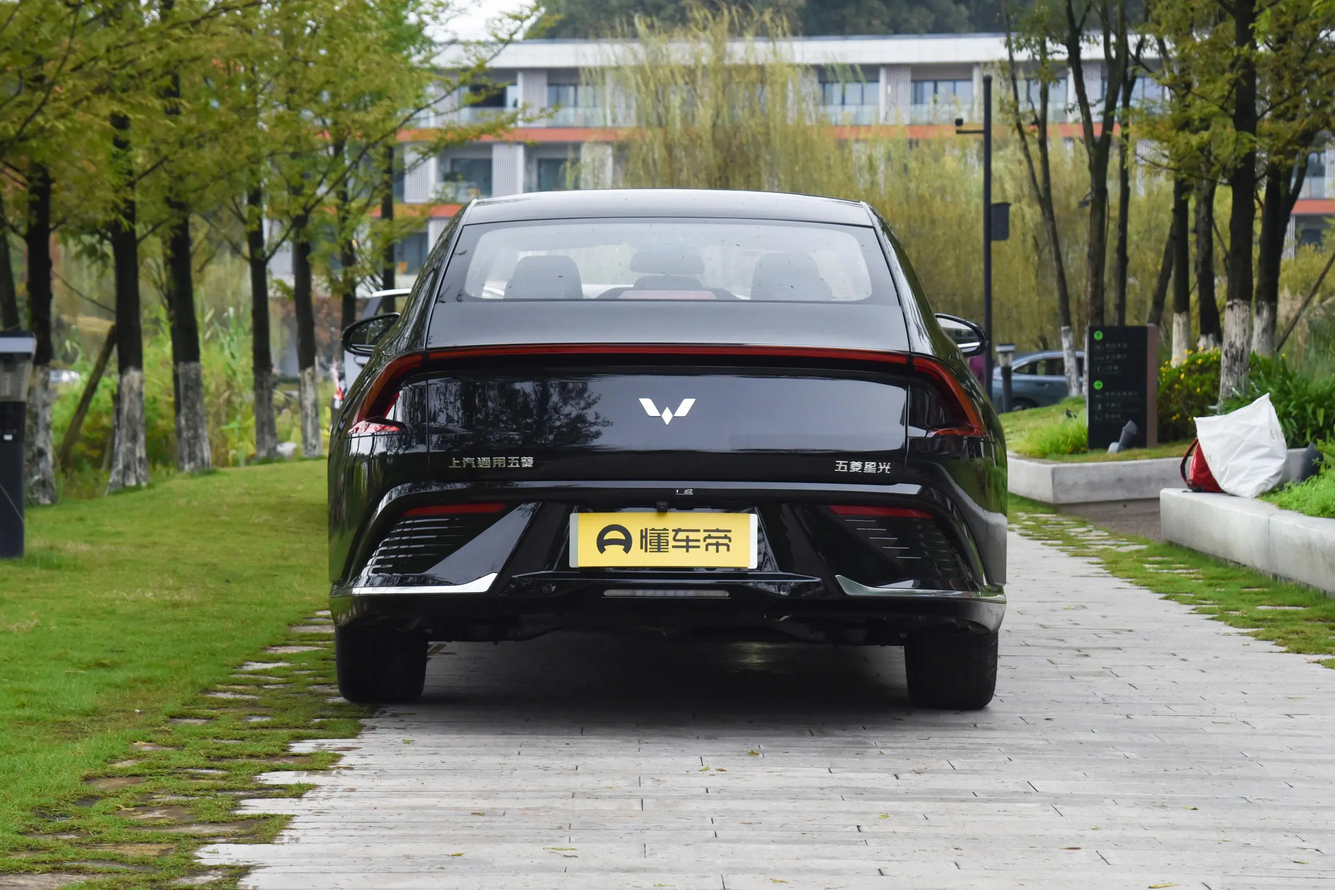SGMW: (639, 398, 696, 424)
